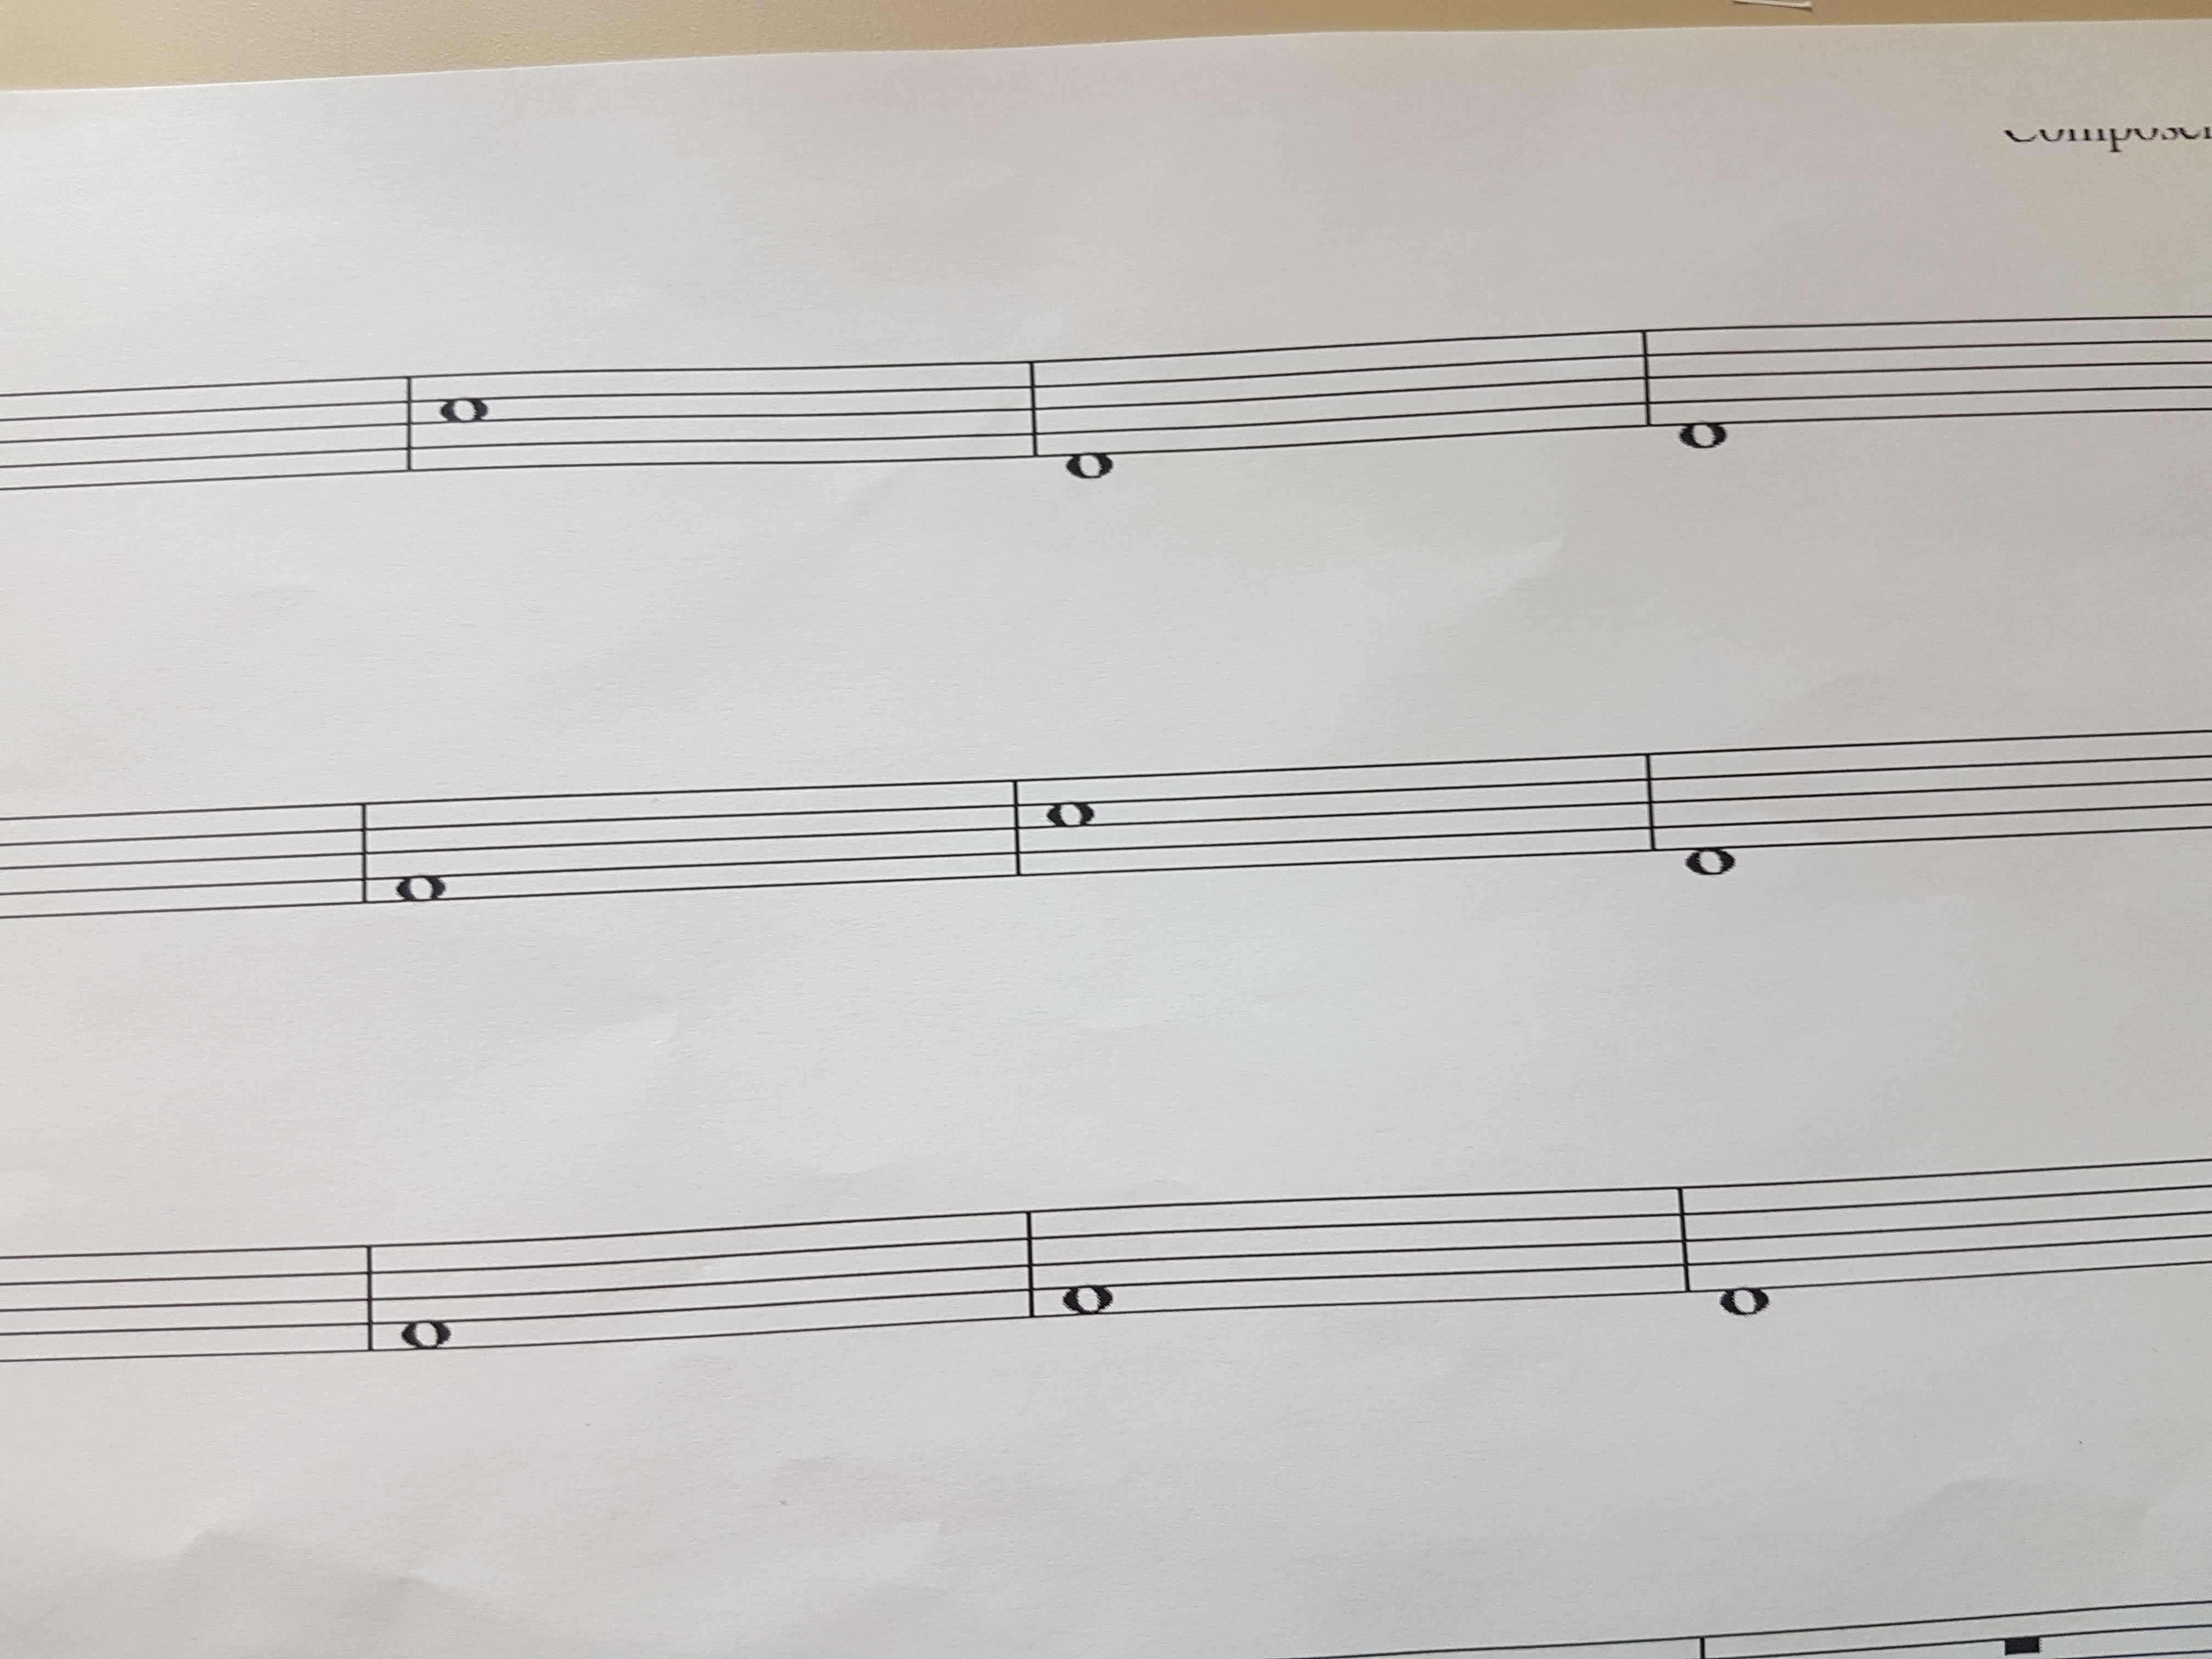pipe: (1667, 1168, 1703, 1312), (1632, 315, 1665, 441), (1637, 737, 1669, 870), (1015, 1199, 1045, 1328), (348, 791, 378, 911), (355, 1229, 381, 1364), (1001, 767, 1029, 889), (1021, 350, 1045, 467), (397, 364, 420, 483)
semibreve_c: (428, 340, 496, 498), (1040, 744, 1101, 903)
semibreve_d: (1667, 291, 1738, 472), (1677, 720, 1745, 904), (1714, 1155, 1780, 1342), (1055, 335, 1123, 505)
semibreve_f: (388, 1206, 456, 1385), (385, 767, 455, 939), (1059, 1180, 1116, 1356)
